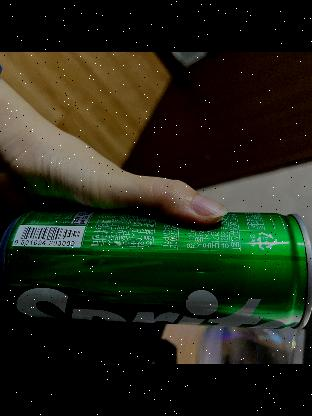Can: (0, 211, 312, 330)
